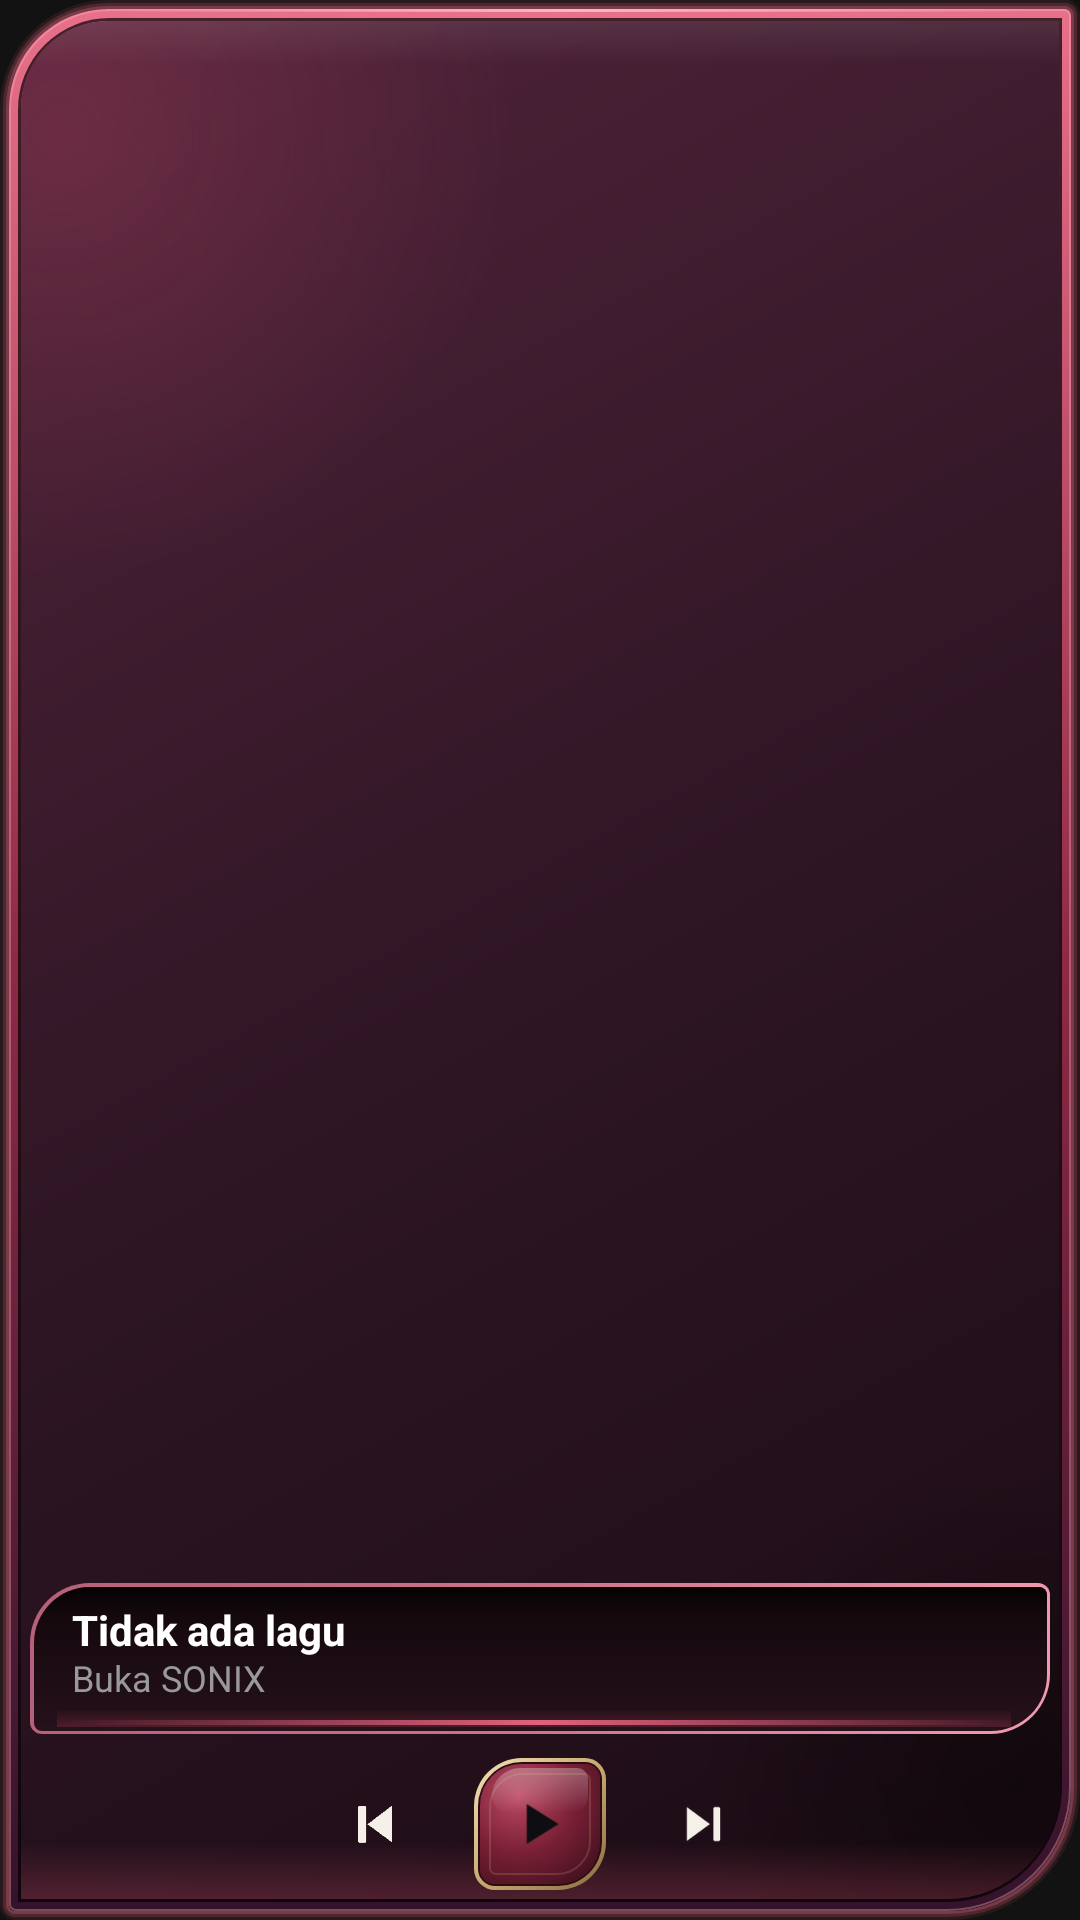

Screen size 1080 x 1920. Icon name, then its center in pixels as [x,y]:
Putar: [540,1824]
